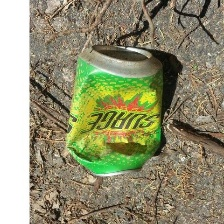can: (61, 40, 171, 179)
